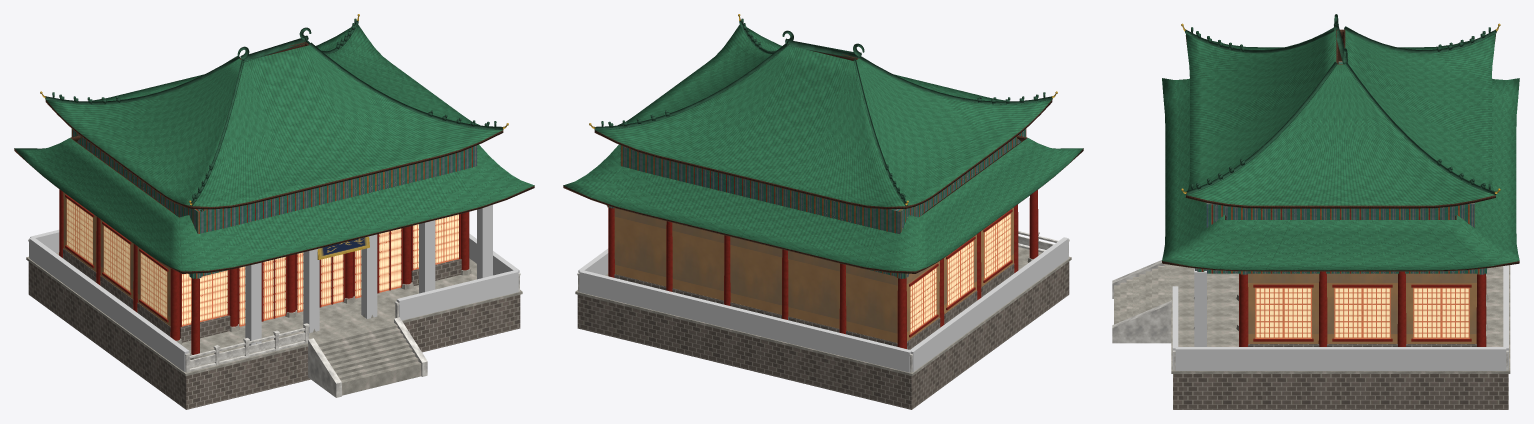
Rendered from city_god_temple.glb.
3 renders of one model, left to right at view 1: azimuth 30°, elevation 25°; view 2: azimuth 150°, elevation 25°; view 3: azimuth 270°, elevation 25°, orthographic. The views are drawn at different scales.
Visible parts, largest first — view 1: CityGodTopRoof, CityGodDSkirt, CityGodPodiumBase, CityGodLattice, CityGodClerestory, CityGodPodiumCap, CityGodColumns, CityGodStairsfront, CityGodRail-convcolonly.004, CityGodFrames, CityGodRail-convcolonly.001, CityGodTopRoofRidges (+12 smaller); view 2: CityGodTopRoof, CityGodDSkirt, CityGodWalls, CityGodPodiumBase, CityGodRail-convcolonly.003, CityGodClerestory, CityGodColumns, CityGodRail-convcolonly.004, CityGodLattice, CityGodTopRoofRidges, CityGodDado, CityGodPodiumCap (+3 smaller); view 3: CityGodTopRoof, CityGodDSkirt, CityGodPodiumBase, CityGodLattice, CityGodRail-convcolonly.002, CityGodPodiumCap, CityGodWalls, CityGodClerestory, CityGodTopRoofRidges, CityGodColumns, CityGodCheeksfront, CityGodStairsfront (+7 smaller).
Part boxes in pixels (bbox=[...]): CityGodTopRoof: bbox=[45, 24, 503, 209]; CityGodDSkirt: bbox=[14, 135, 534, 273]; CityGodPodiumBase: bbox=[28, 262, 520, 409]; CityGodLattice: bbox=[66, 198, 458, 326]; CityGodClerestory: bbox=[71, 129, 477, 233]; CityGodPodiumCap: bbox=[26, 252, 522, 376]; CityGodColumns: bbox=[59, 189, 469, 354]; CityGodStairsfront: bbox=[316, 323, 421, 395]; CityGodRail-convcolonly.004: bbox=[29, 237, 189, 372]; CityGodFrames: bbox=[65, 194, 460, 327]; CityGodRail-convcolonly.001: bbox=[396, 270, 518, 320]; CityGodTopRoofRidges: bbox=[45, 20, 503, 205]; CityGodTopRoof: bbox=[594, 24, 1052, 209]; CityGodDSkirt: bbox=[563, 135, 1083, 273]; CityGodWalls: bbox=[614, 207, 1013, 342]; CityGodPodiumBase: bbox=[577, 262, 1069, 409]; CityGodRail-convcolonly.003: bbox=[579, 270, 911, 372]; CityGodClerestory: bbox=[620, 129, 1026, 233]; CityGodColumns: bbox=[608, 190, 1038, 348]; CityGodRail-convcolonly.004: bbox=[910, 237, 1068, 372]; CityGodLattice: bbox=[910, 213, 1010, 334]; CityGodTopRoofRidges: bbox=[594, 20, 1052, 205]; CityGodDado: bbox=[614, 263, 1014, 349]; CityGodPodiumCap: bbox=[575, 247, 1071, 376]; CityGodTopRoof: bbox=[1185, 29, 1495, 208]; CityGodDSkirt: bbox=[1162, 78, 1519, 271]; CityGodPodiumBase: bbox=[1173, 374, 1508, 409]; CityGodLattice: bbox=[1255, 287, 1469, 338]; CityGodRail-convcolonly.002: bbox=[1175, 347, 1506, 370]; CityGodPodiumCap: bbox=[1171, 265, 1510, 373]; CityGodWalls: bbox=[1248, 273, 1476, 343]; CityGodClerestory: bbox=[1206, 61, 1474, 227]; CityGodTopRoofRidges: bbox=[1185, 14, 1496, 194]; CityGodColumns: bbox=[1239, 271, 1486, 346]; CityGodCheeksfront: bbox=[1112, 260, 1171, 343]; CityGodStairsfront: bbox=[1114, 264, 1171, 324].
Size of what is drawn, in the model's own units: 21.94 by 16.3 by 20.66.
Materials: 12 (12 with a texture image).
